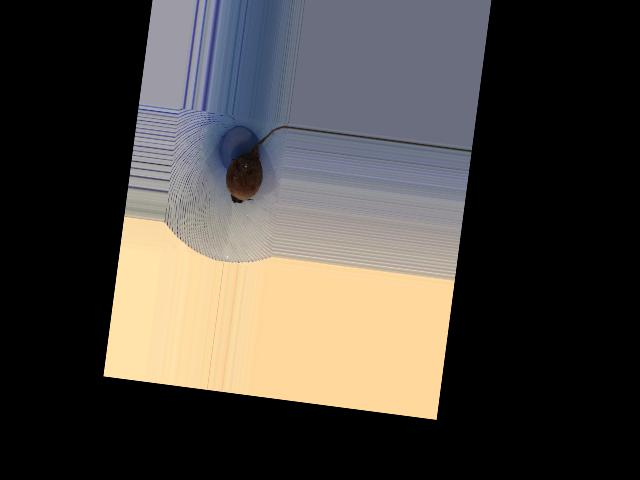beet: (223, 119, 289, 209)
